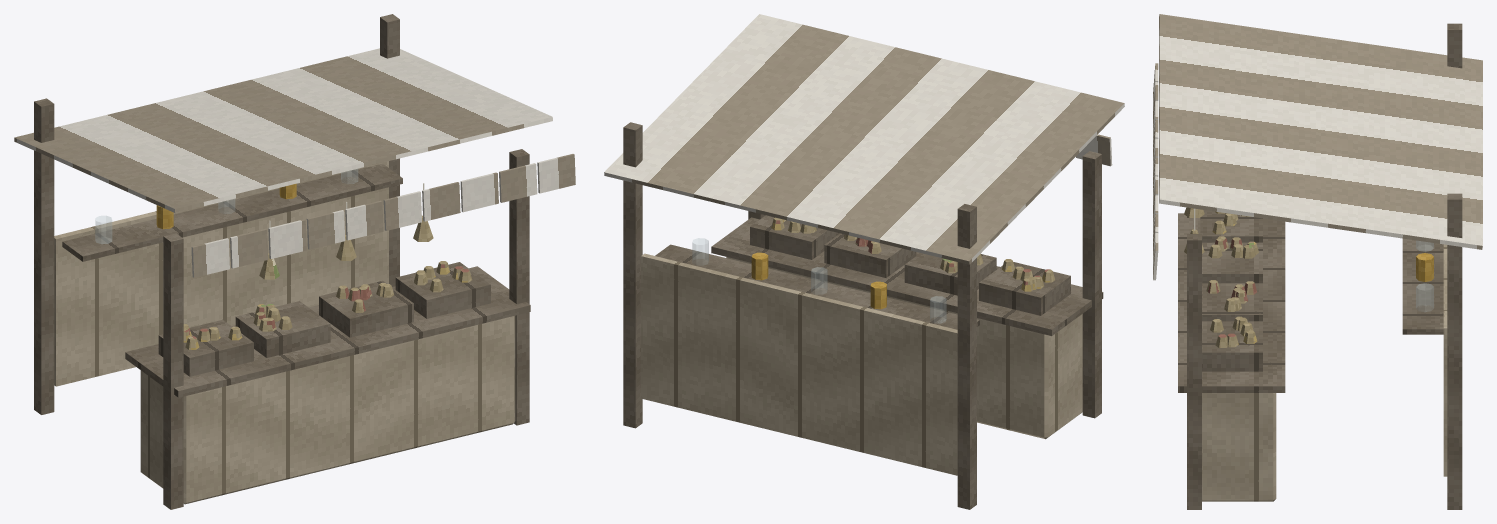
Rendered from market_stall.glb.
The picture shows the model from 3 angles, left to right: view 1: azimuth 30°, elevation 25°; view 2: azimuth 150°, elevation 25°; view 3: azimuth 270°, elevation 25°; orthographic projection. The views are drawn at different scales.
Parts seen in each view (by area): view 1: body; view 2: body; view 3: body.
Part boxes in pixels (bbox=[...]): body: bbox=[14, 14, 575, 509]; body: bbox=[604, 14, 1124, 509]; body: bbox=[1153, 14, 1482, 509].
Bounding box in the file's own units: 3.11 × 2.34 × 2.22.
7 materials, 5 textured.
